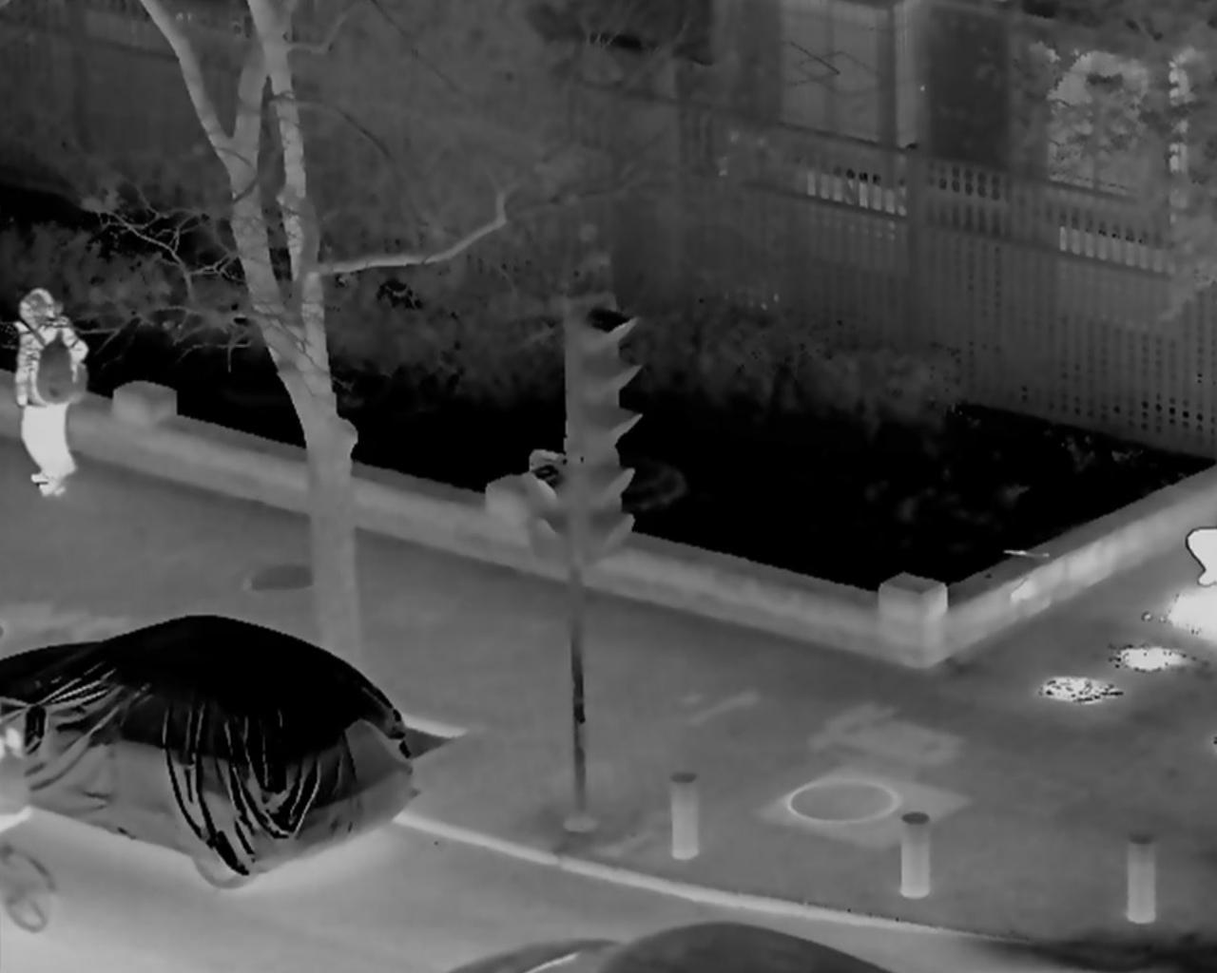person: (18, 288, 90, 483), (13, 291, 66, 499)
